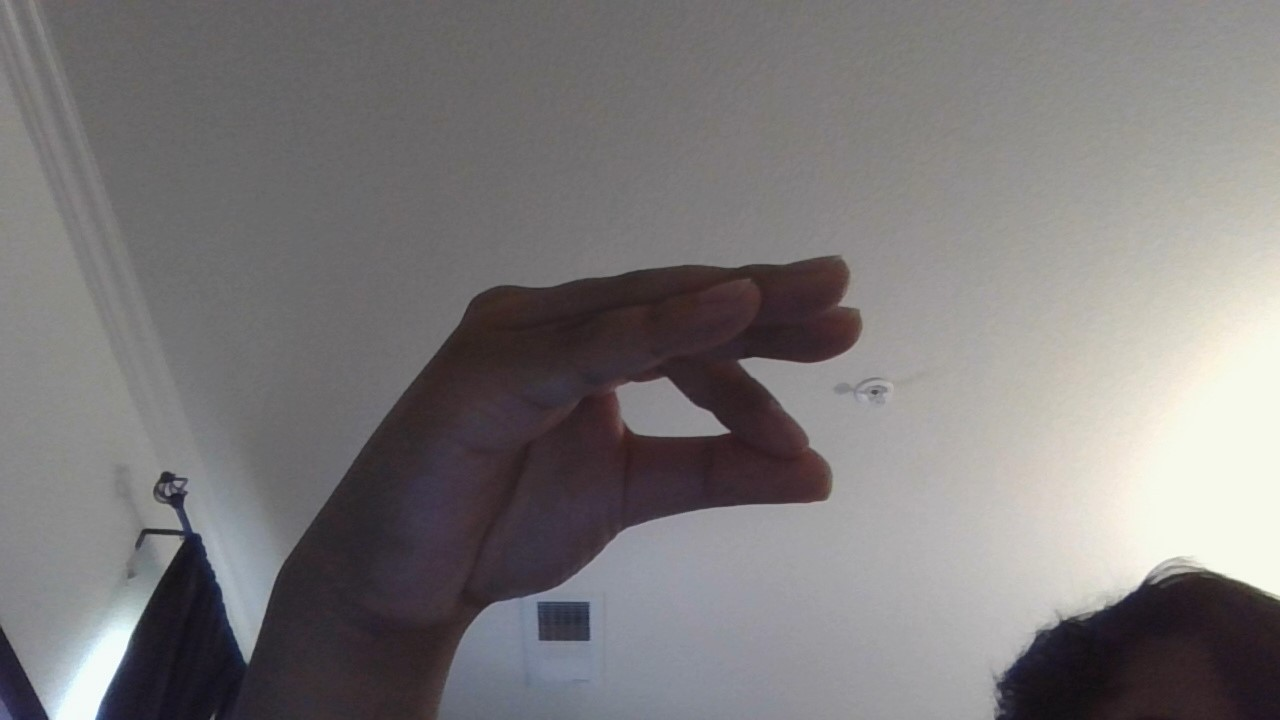z: (233, 227, 882, 638)
